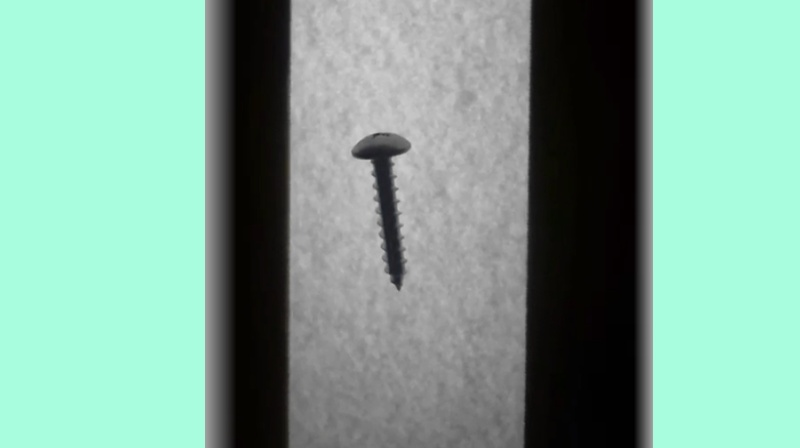S003: (349, 126, 411, 292)
